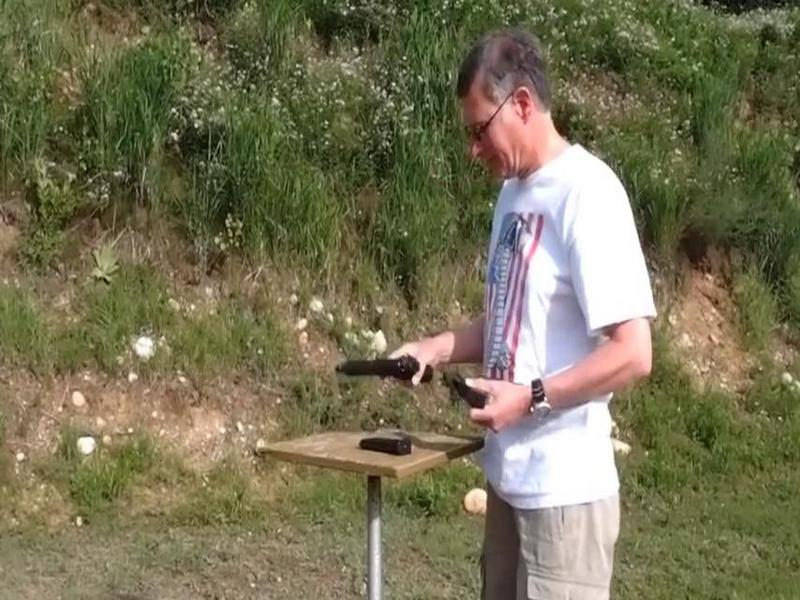Pistola: (337, 338, 477, 414)
